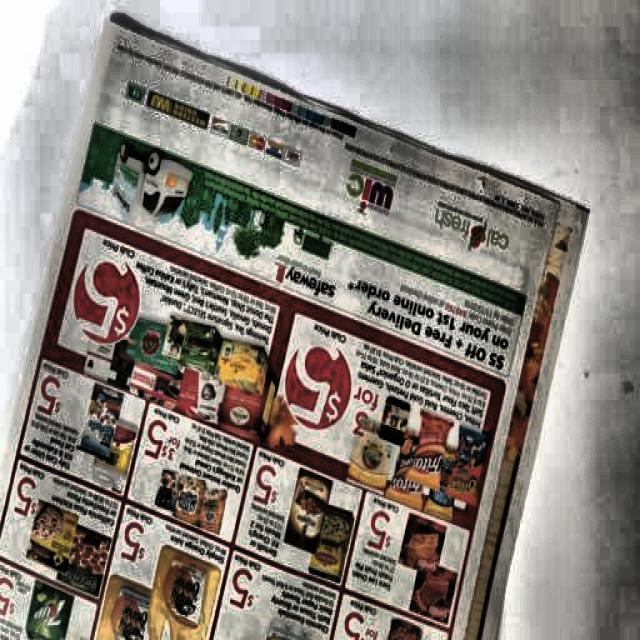paper: (52, 8, 585, 640)
